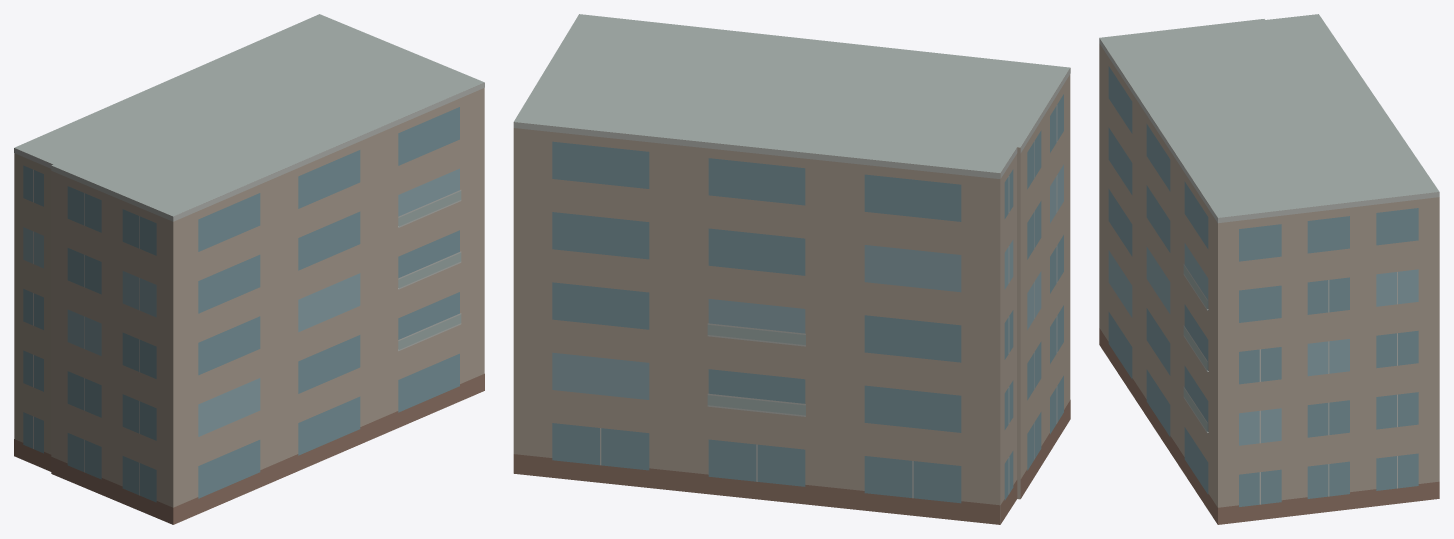
Rendered from survey-upis-32652895.glb.
3 renders of one model, left to right at view 1: azimuth 30°, elevation 25°; view 2: azimuth 150°, elevation 25°; view 3: azimuth 270°, elevation 25°, orthographic. The views are drawn at different scales.
Parts seen in each view (by area): view 1: survey-upis-32652895.tmp; view 2: survey-upis-32652895.tmp; view 3: survey-upis-32652895.tmp.
Boxes of the visible parts, x1,y1,x2,y2 form: survey-upis-32652895.tmp: [14, 14, 484, 524]; survey-upis-32652895.tmp: [513, 14, 1070, 524]; survey-upis-32652895.tmp: [1099, 14, 1439, 524].
Size of the model in its own units: 20.4 by 14.3 by 14.38.
